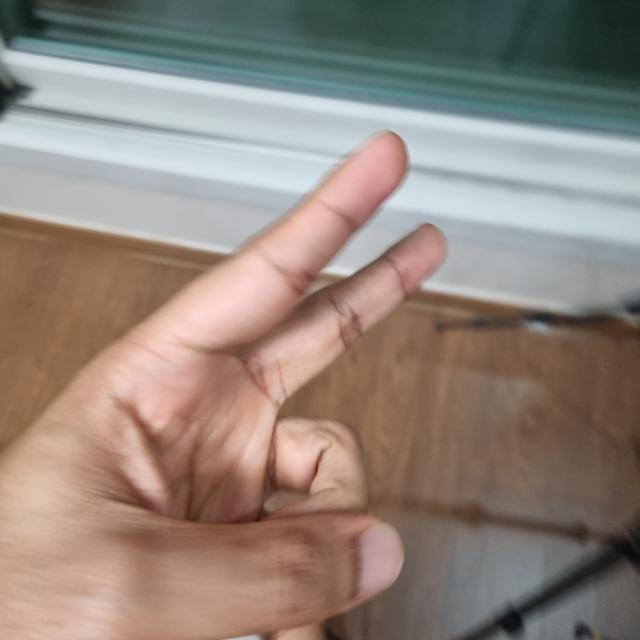Scissors: (0, 142, 443, 639)
